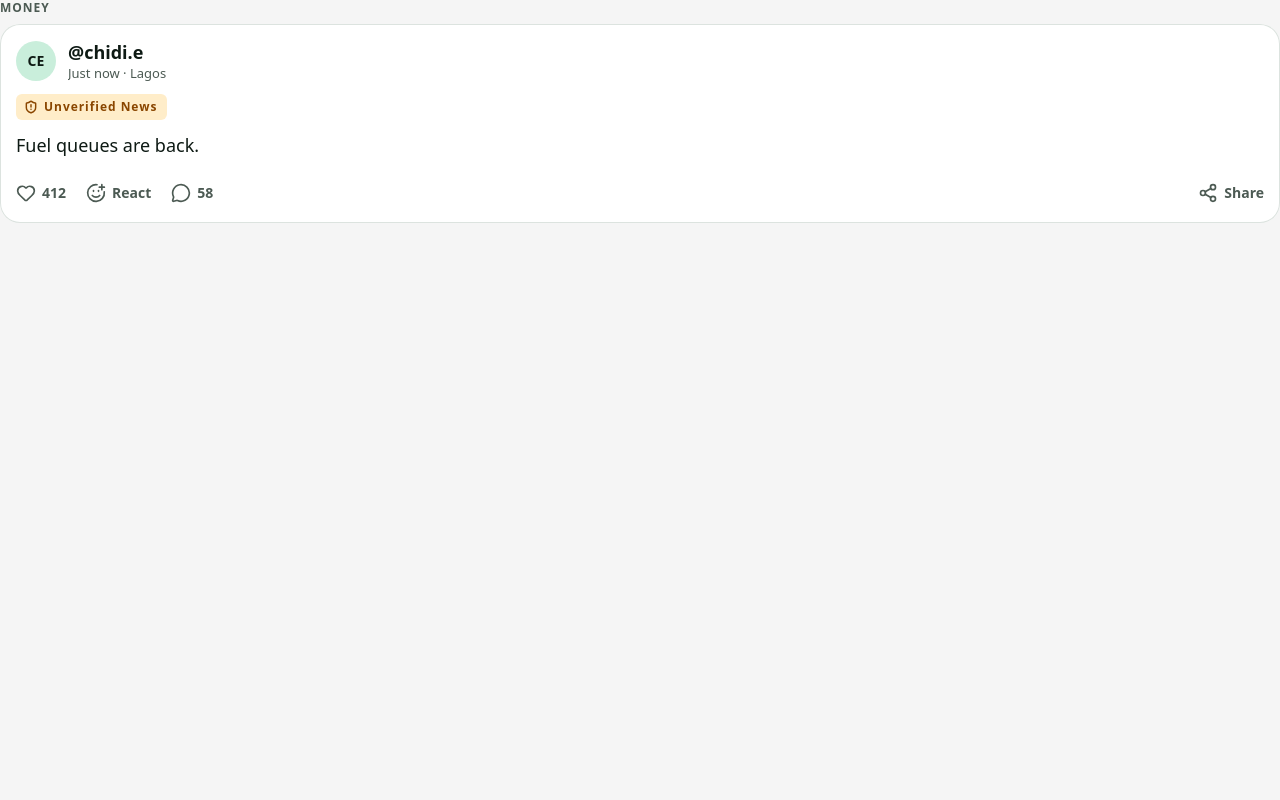
NewsCard › opens the share sheet for the post
The image size is (1280, 800).
Click the button "Share": (1231, 193) [1190,171,1272,215]
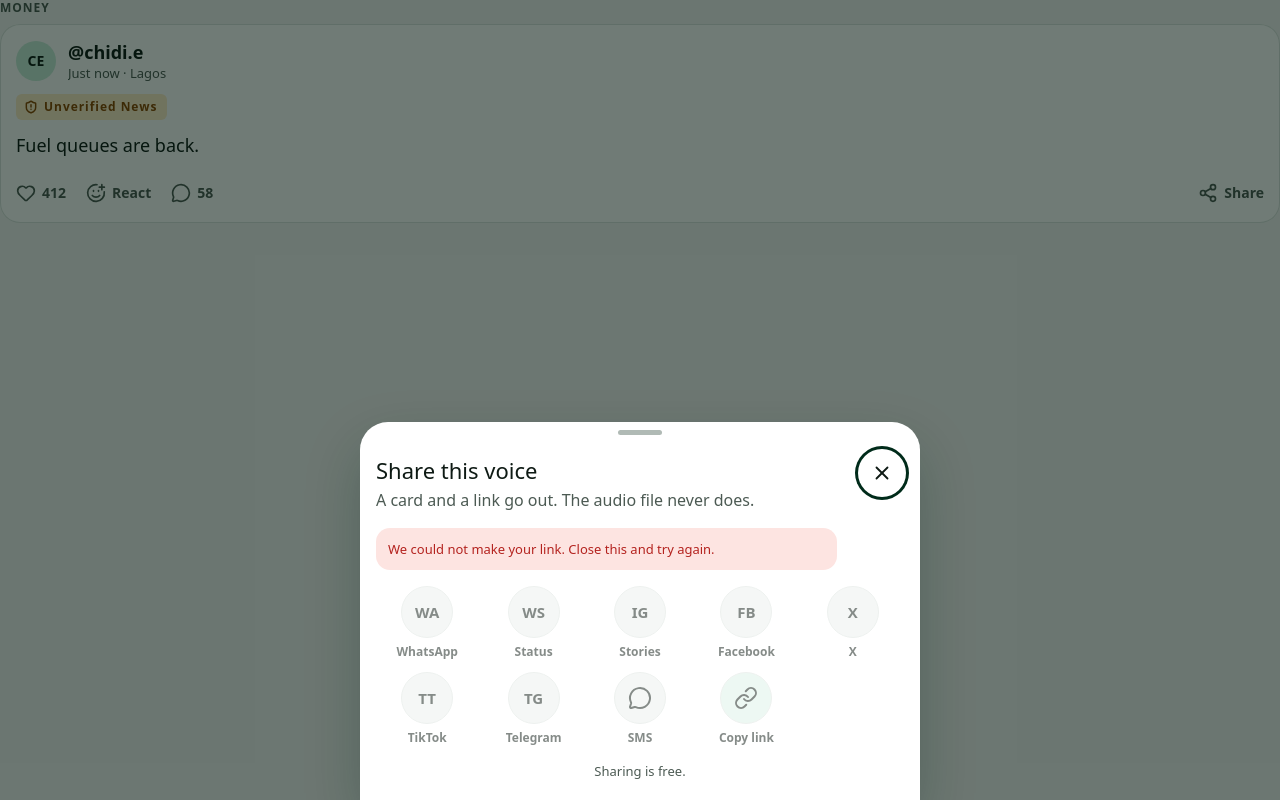
Now the dialog is shown, box [360,422,920,799]
Now the heading "Share this voice" is shown, box [376,455,537,485]
